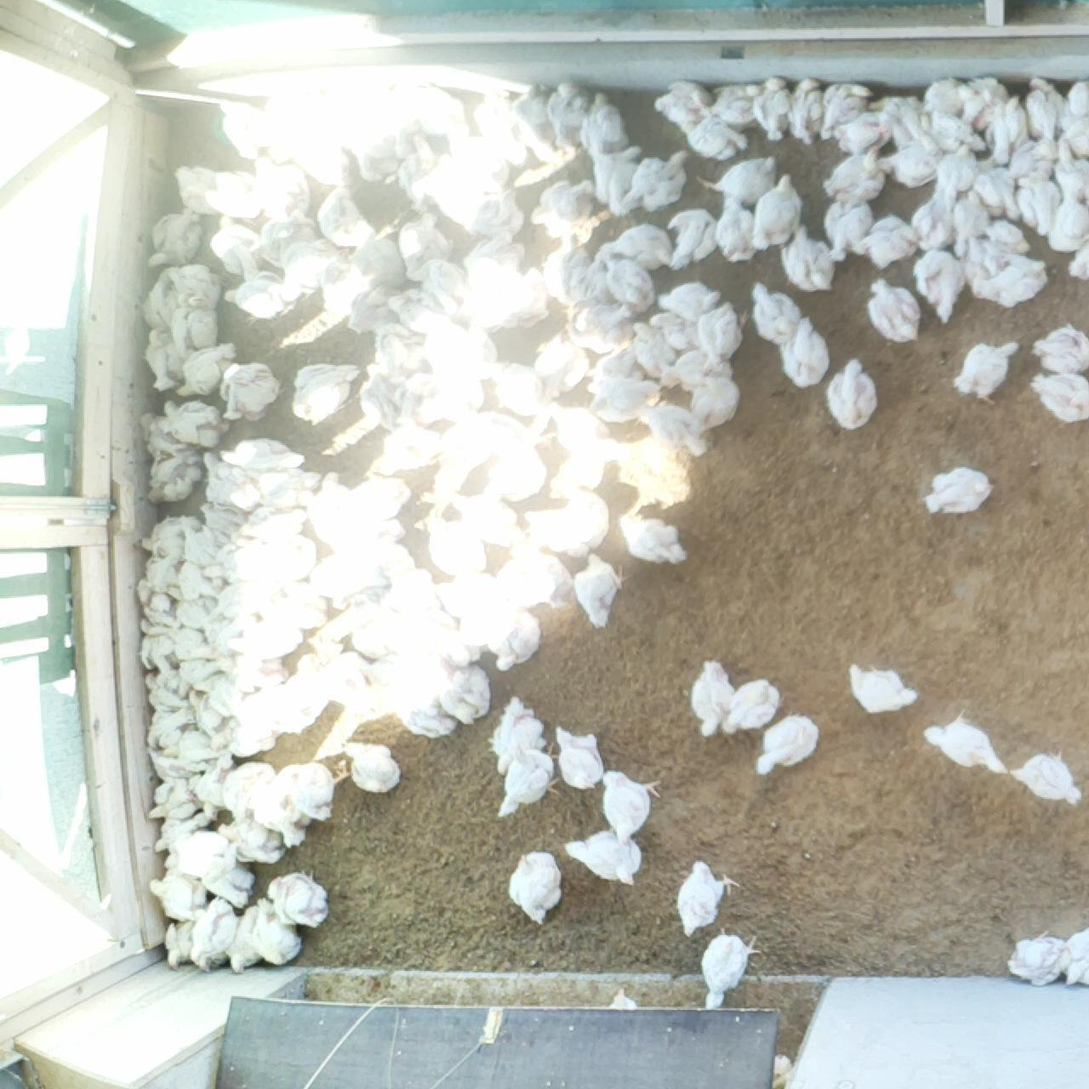chicken: (922, 76, 1008, 164), (920, 710, 1006, 784), (567, 92, 644, 168), (745, 173, 811, 261), (563, 825, 654, 888), (505, 849, 577, 927), (169, 161, 270, 216), (311, 477, 402, 538), (397, 365, 499, 419), (307, 181, 385, 250), (858, 272, 932, 344), (631, 321, 697, 400), (204, 218, 291, 277), (914, 251, 977, 332), (846, 659, 923, 725), (571, 551, 624, 646), (415, 312, 494, 375), (597, 771, 664, 845), (244, 776, 318, 843), (543, 405, 625, 465), (995, 142, 1063, 214), (927, 458, 995, 529), (975, 258, 1058, 316), (700, 930, 760, 1009), (774, 227, 836, 303), (619, 509, 690, 575), (360, 425, 437, 485), (206, 812, 285, 870), (679, 862, 749, 927), (338, 738, 408, 803), (532, 503, 613, 559), (487, 745, 556, 810), (490, 693, 546, 773), (1018, 742, 1080, 813), (644, 402, 710, 468), (482, 274, 574, 321), (217, 362, 280, 430), (291, 374, 360, 436), (535, 335, 598, 402), (707, 151, 778, 210), (778, 71, 828, 153), (822, 153, 885, 218), (589, 139, 648, 208), (957, 338, 1020, 402), (477, 445, 544, 505), (690, 655, 733, 748), (830, 88, 891, 153), (750, 285, 810, 351), (621, 147, 689, 205), (174, 342, 237, 404), (1028, 365, 1088, 430), (825, 191, 875, 269), (601, 220, 679, 270), (749, 717, 821, 771), (229, 272, 293, 332), (824, 360, 873, 438), (486, 603, 543, 670), (871, 87, 927, 154), (218, 760, 271, 830), (911, 195, 960, 270), (145, 210, 218, 260), (235, 913, 317, 957), (550, 439, 610, 499), (707, 193, 759, 262), (1019, 76, 1065, 153), (397, 682, 455, 743), (262, 875, 337, 922), (554, 722, 607, 787), (663, 204, 715, 270), (594, 258, 662, 308), (887, 140, 946, 197), (455, 498, 523, 547), (161, 834, 242, 875), (872, 207, 915, 284), (681, 111, 747, 161), (725, 676, 779, 737), (784, 315, 826, 392), (1041, 319, 1089, 386), (439, 666, 496, 722), (820, 72, 870, 134), (698, 307, 747, 370), (683, 369, 737, 425), (153, 873, 223, 916), (943, 145, 987, 213), (748, 73, 791, 141), (1042, 196, 1088, 259), (662, 281, 724, 327), (185, 904, 238, 957), (659, 80, 712, 131), (990, 92, 1023, 172), (159, 779, 207, 833), (283, 768, 334, 818), (953, 197, 995, 255), (716, 85, 767, 128), (1023, 942, 1068, 982)
